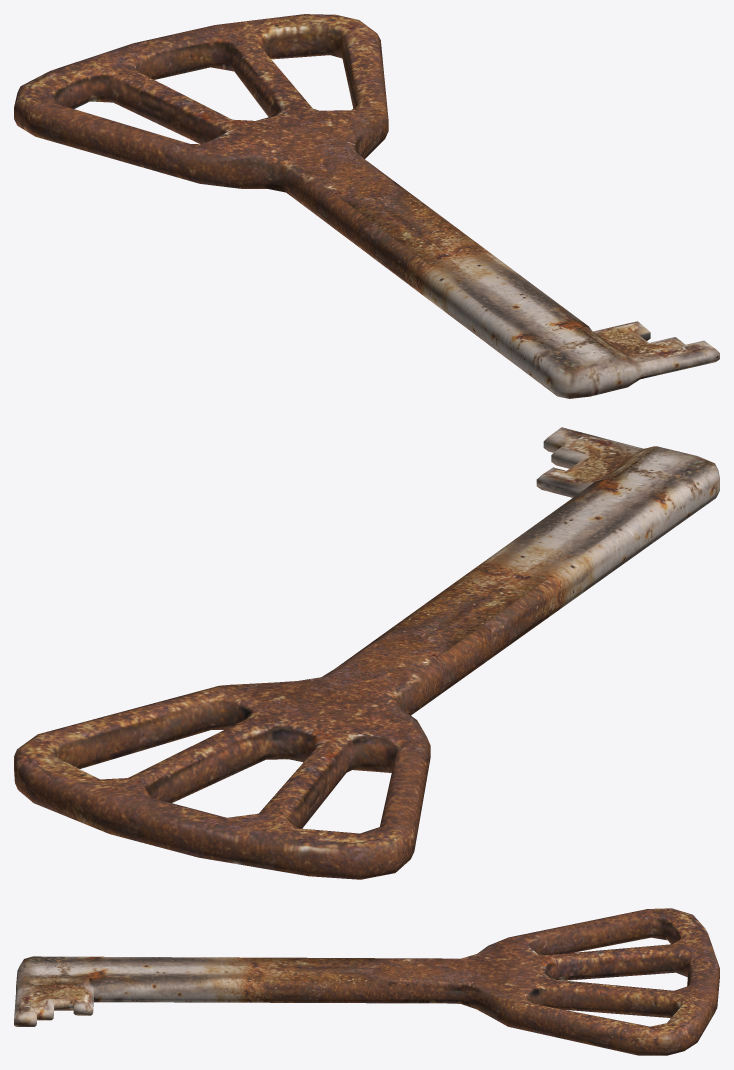
The model's file is key_01.fbx.
3 renders of one model, top to bottom at view 1: azimuth 30°, elevation 25°; view 2: azimuth 150°, elevation 25°; view 3: azimuth 270°, elevation 25°, orthographic. The views are drawn at different scales.
Visible parts, largest first — view 1: key_01; view 2: key_01; view 3: key_01.
Part boxes in pixels (bbox=[...]): key_01: bbox=[14, 14, 719, 398]; key_01: bbox=[14, 427, 719, 879]; key_01: bbox=[14, 908, 719, 1055].
Size of the model in its own units: 8.69 by 0.7411 by 19.94.
